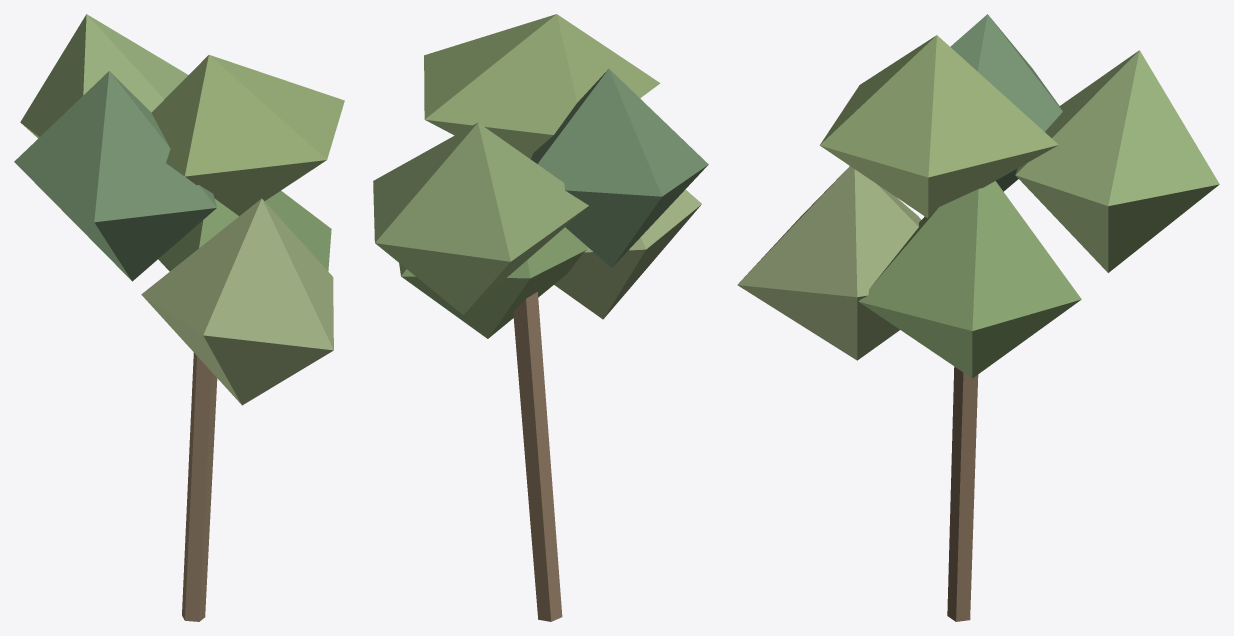
The picture shows the model from 3 angles, left to right: view 1: azimuth 30°, elevation 25°; view 2: azimuth 150°, elevation 25°; view 3: azimuth 270°, elevation 25°; orthographic projection. The views are drawn at different scales.
Bounding box in the file's own units: 2.7 × 5.11 × 3.83.
